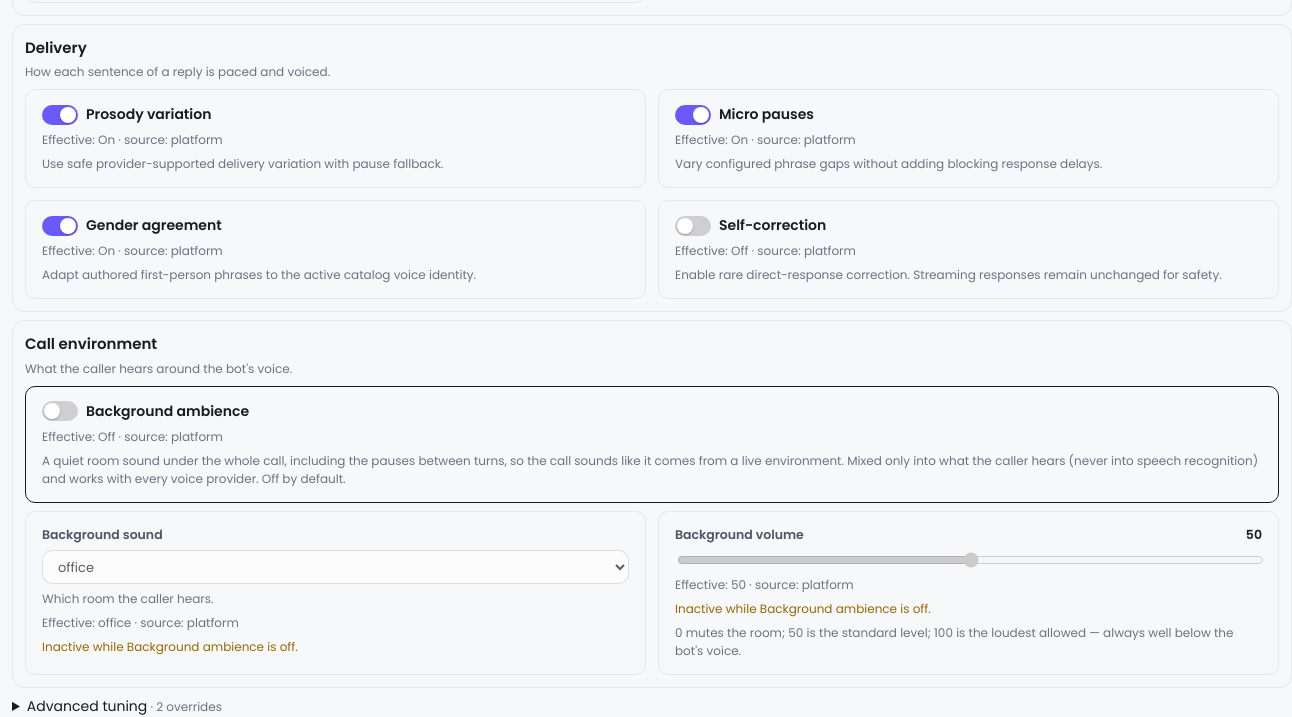
HumanSpeechSettingsEditor › collapses advanced tuning while keeping common switches visible
The image size is (1292, 717).
(page scrolled)
expect the text "· 2 overrides" is shown: met, box left=147, top=698, right=222, bottom=715
Click the heading "Advanced tuning · 2 overrides" at (124, 706), box left=27, top=696, right=222, bottom=716
(page scrolled)
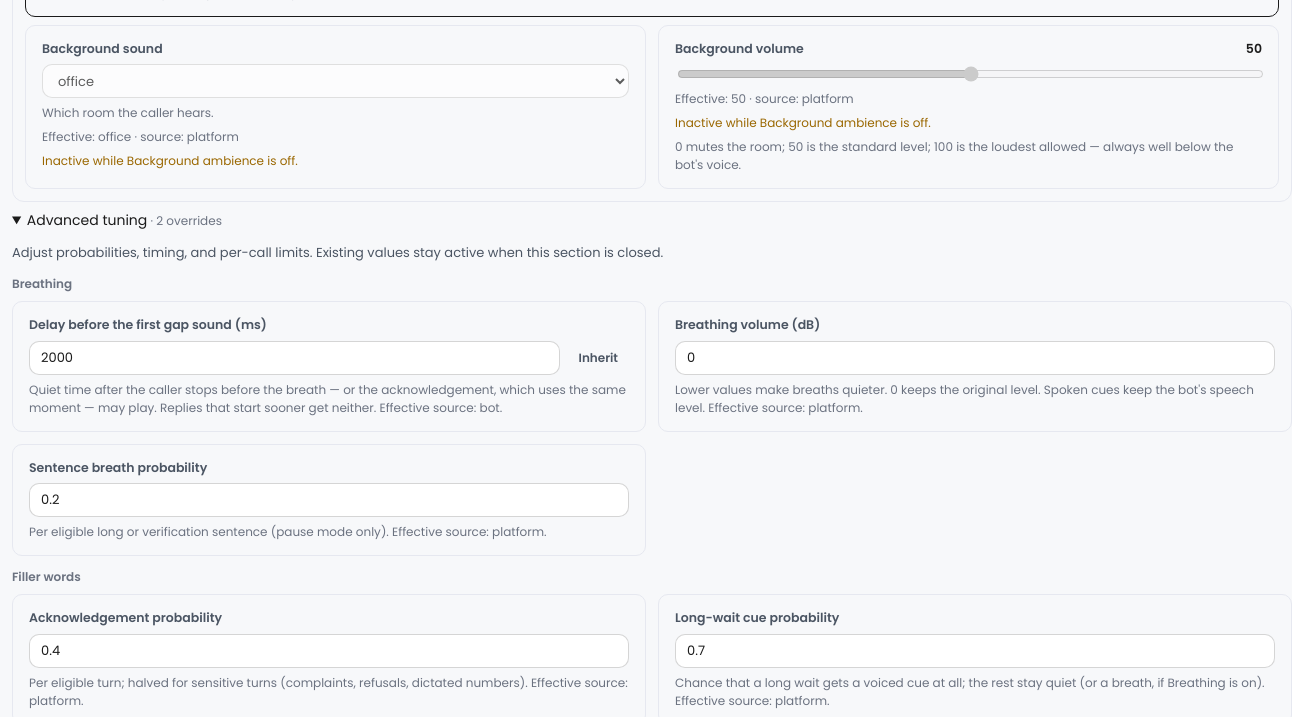
expect the number field labelled "Delay before the first gap sound (ms)" holds "2000": met, box left=29, top=340, right=560, bottom=374
